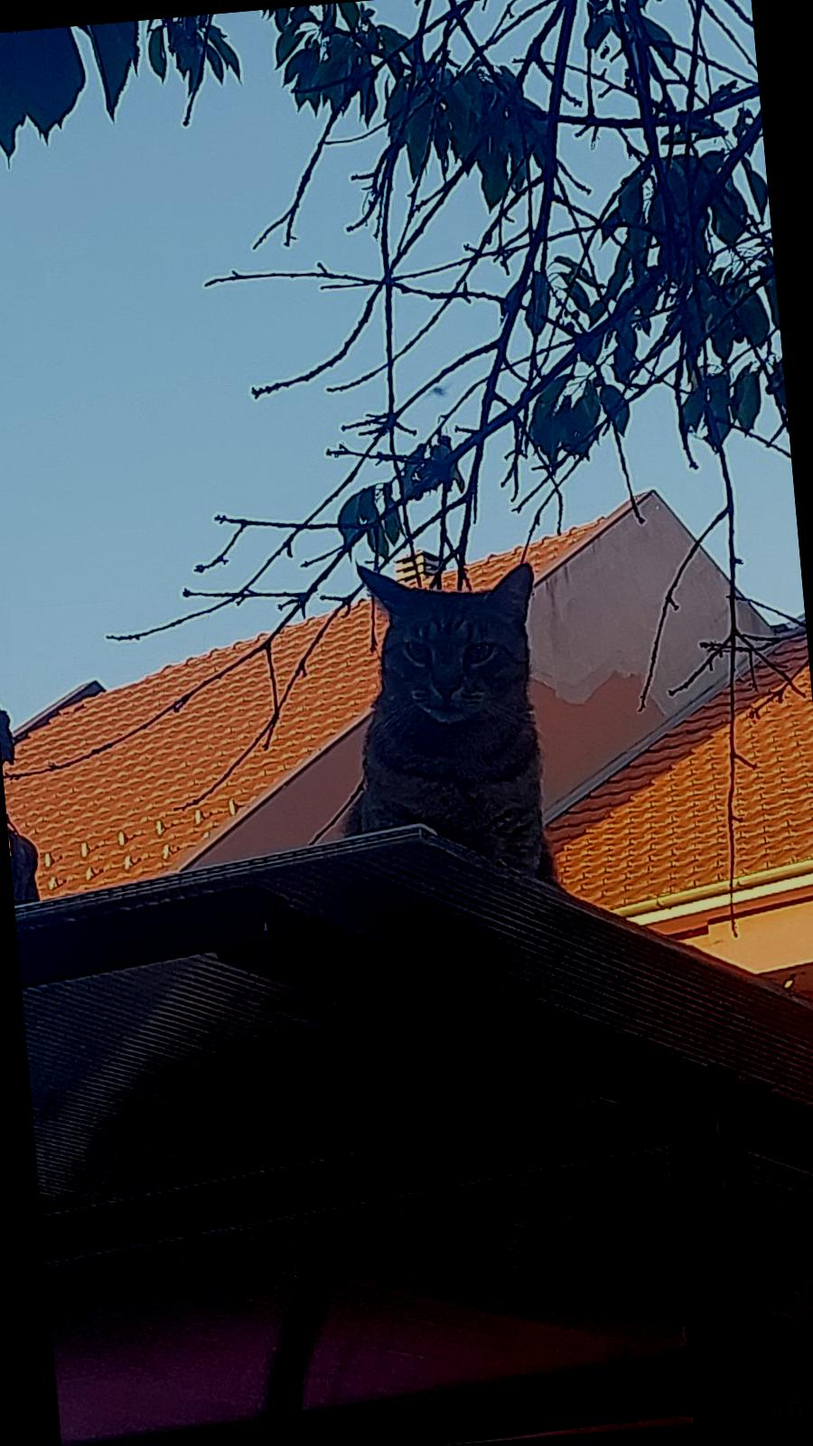macka: (322, 544, 569, 988)
